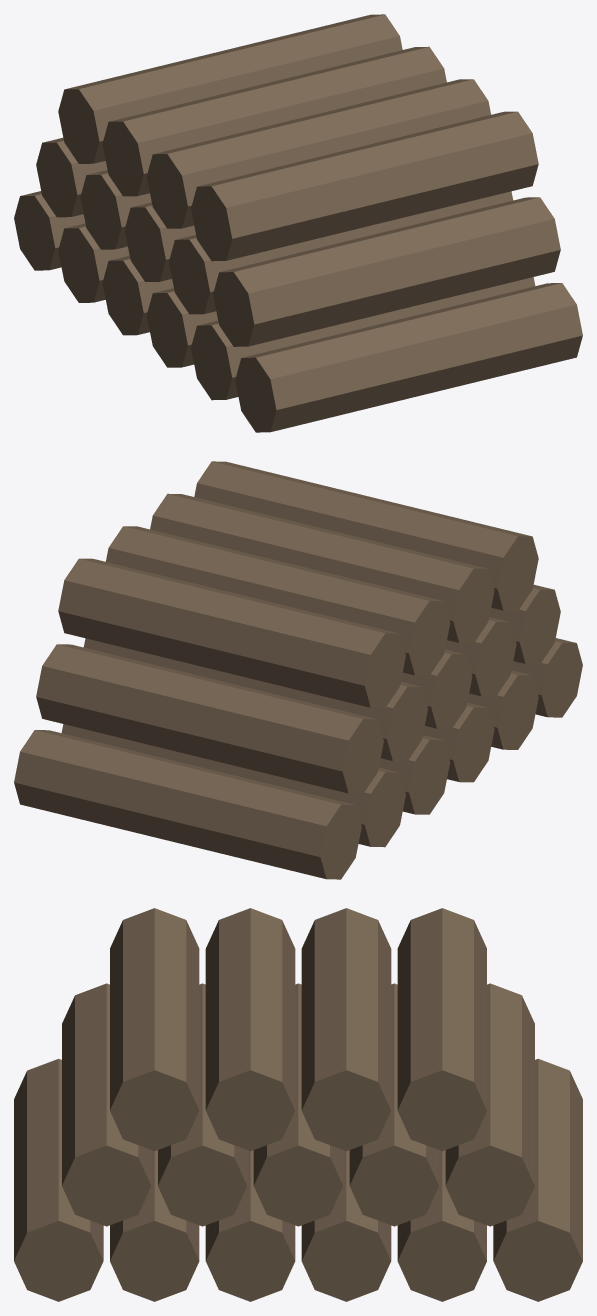
File: WoodPile.fbx
The picture shows the model from 3 angles, top to bottom: view 1: azimuth 30°, elevation 25°; view 2: azimuth 150°, elevation 25°; view 3: azimuth 270°, elevation 25°; orthographic projection. The views are drawn at different scales.
Visible parts, largest first — view 1: WoodPile; view 2: WoodPile; view 3: WoodPile.
Part boxes in pixels (x1,y1,x2,y2): WoodPile: [14, 14, 582, 432]; WoodPile: [14, 461, 582, 879]; WoodPile: [14, 908, 582, 1301].
Bounding box in the file's own units: 1.2 × 1.78 × 0.8.
